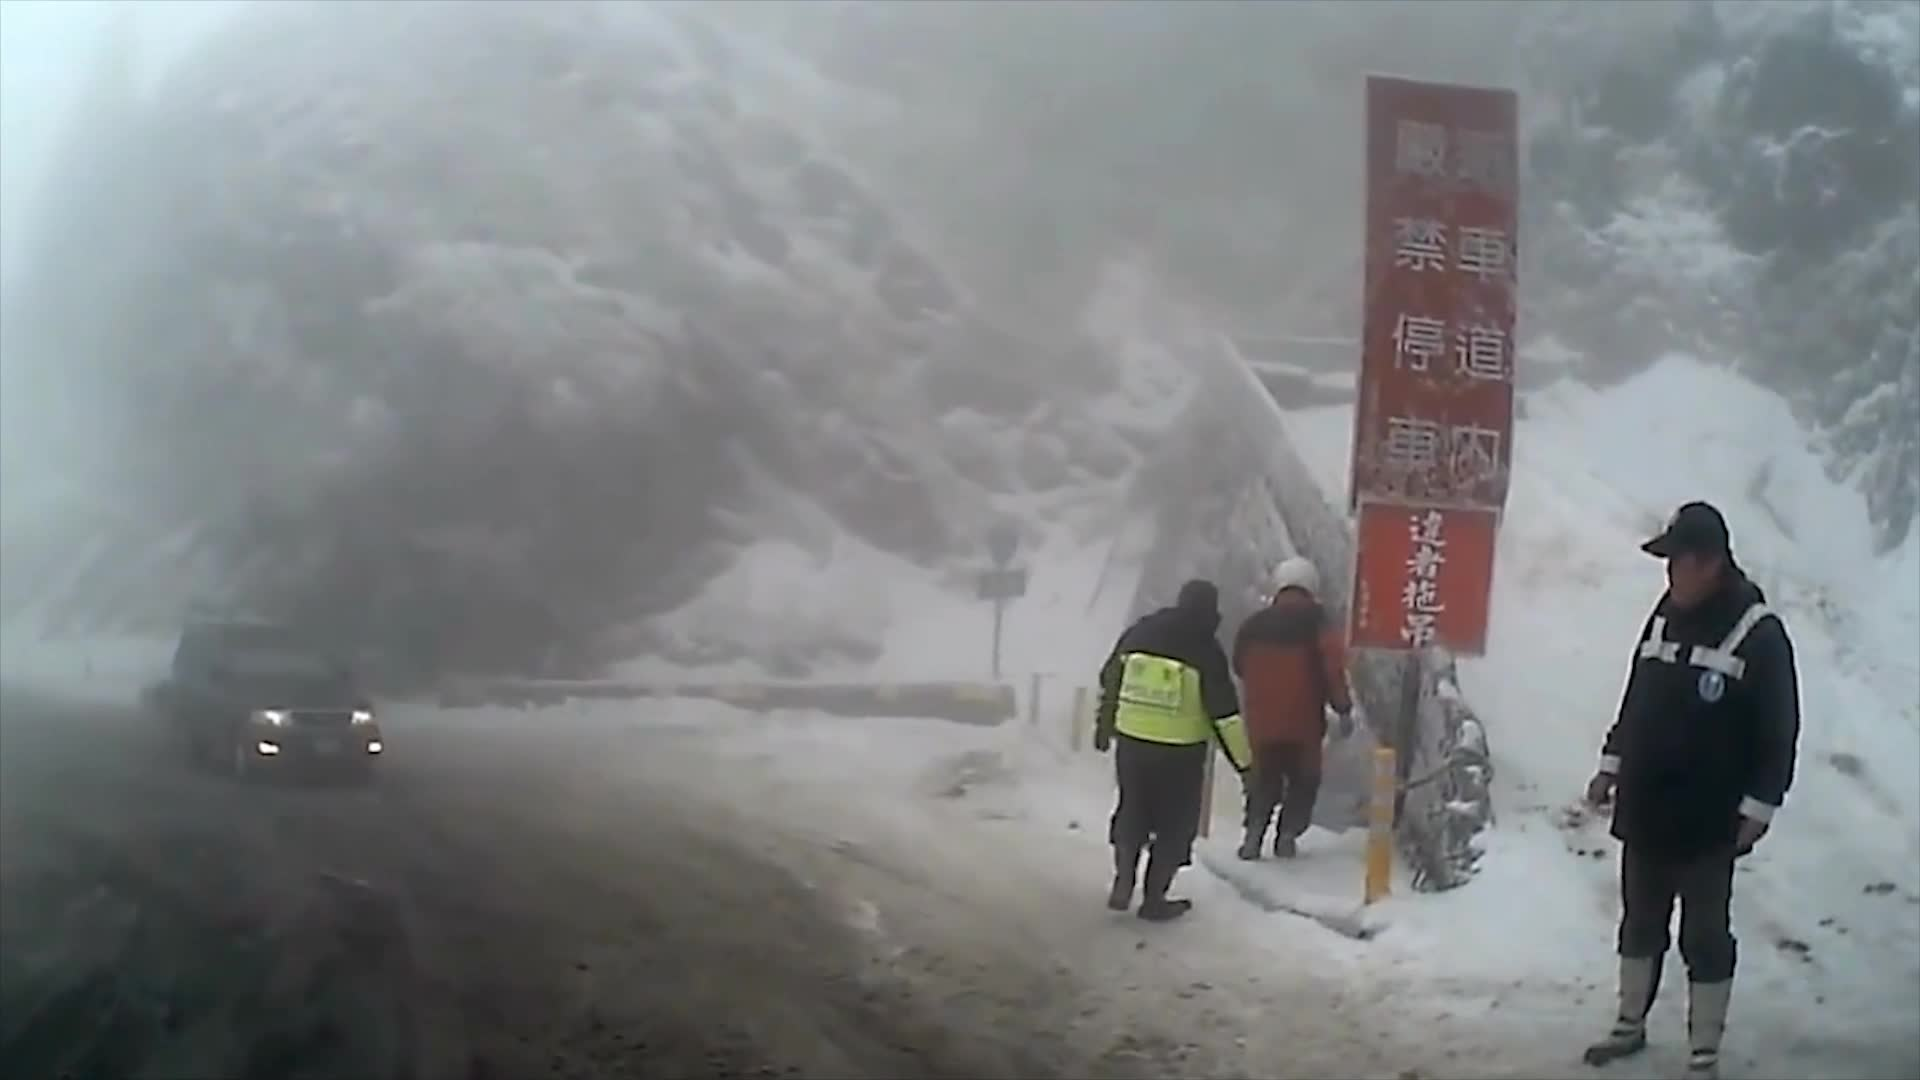pedestrian: (1584, 503, 1803, 1077), (1086, 583, 1246, 929), (1229, 553, 1353, 860)
vehicle: (171, 621, 386, 790)
